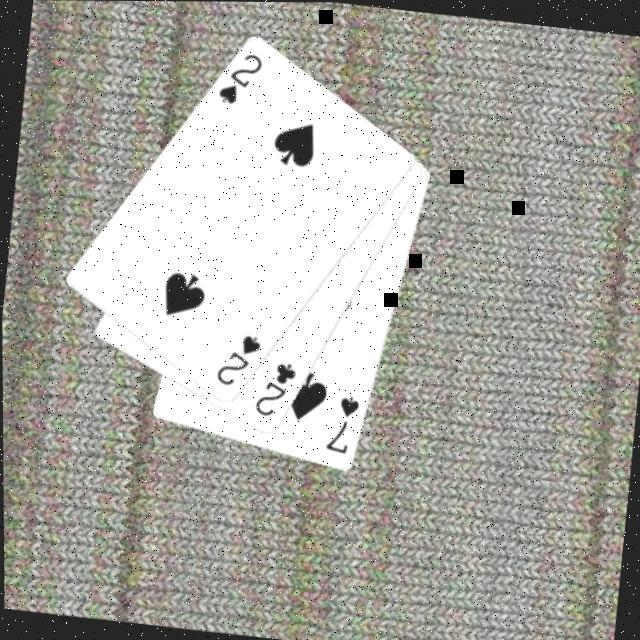2C: (250, 355, 300, 421)
2S: (212, 327, 266, 391), (214, 46, 268, 110)
7S: (322, 389, 364, 456)
